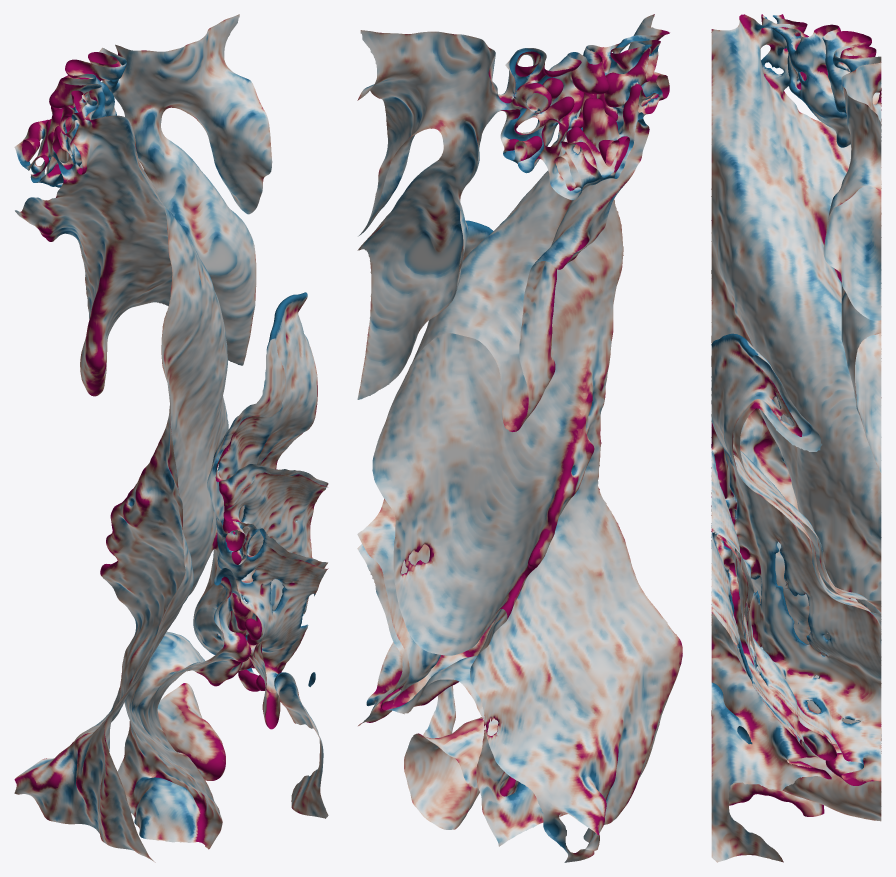
The model's file is crop1144_deviation.glb.
3 renders of one model, left to right at view 1: azimuth 30°, elevation 25°; view 2: azimuth 150°, elevation 25°; view 3: azimuth 270°, elevation 25°, orthographic. The views are drawn at different scales.
Parts seen in each view (by area): view 1: geometry_0; view 2: geometry_0; view 3: geometry_0.
Part boxes in pixels (bbox=[...]): geometry_0: bbox=[14, 14, 328, 862]; geometry_0: bbox=[357, 14, 682, 862]; geometry_0: bbox=[711, 14, 881, 862].
Bounding box in the file's own units: 2280 × 7080 × 1480.
